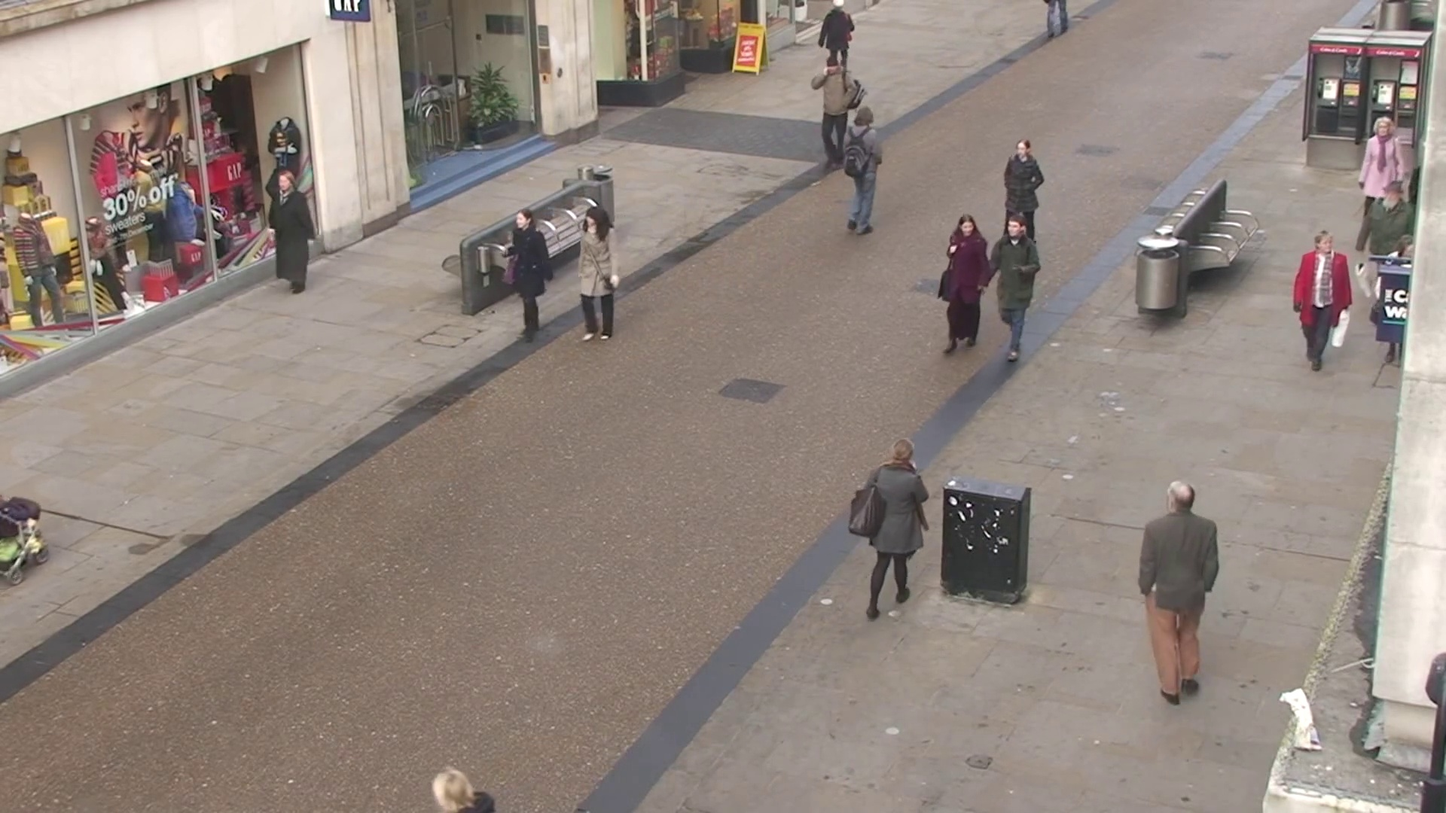person: (1138, 480, 1222, 705), (855, 440, 931, 620), (1292, 227, 1353, 372), (1356, 109, 1414, 258), (267, 119, 316, 294), (936, 213, 994, 355), (990, 214, 1042, 364), (506, 212, 554, 334), (840, 105, 883, 236), (576, 208, 618, 342), (1004, 138, 1046, 236), (819, 3, 854, 72)
